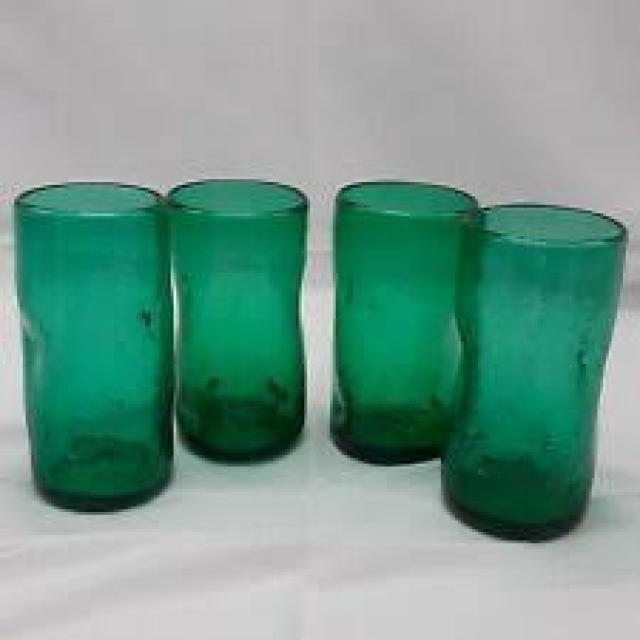glass: (438, 202, 623, 535), (9, 179, 174, 512), (324, 179, 478, 464), (162, 179, 304, 461)
